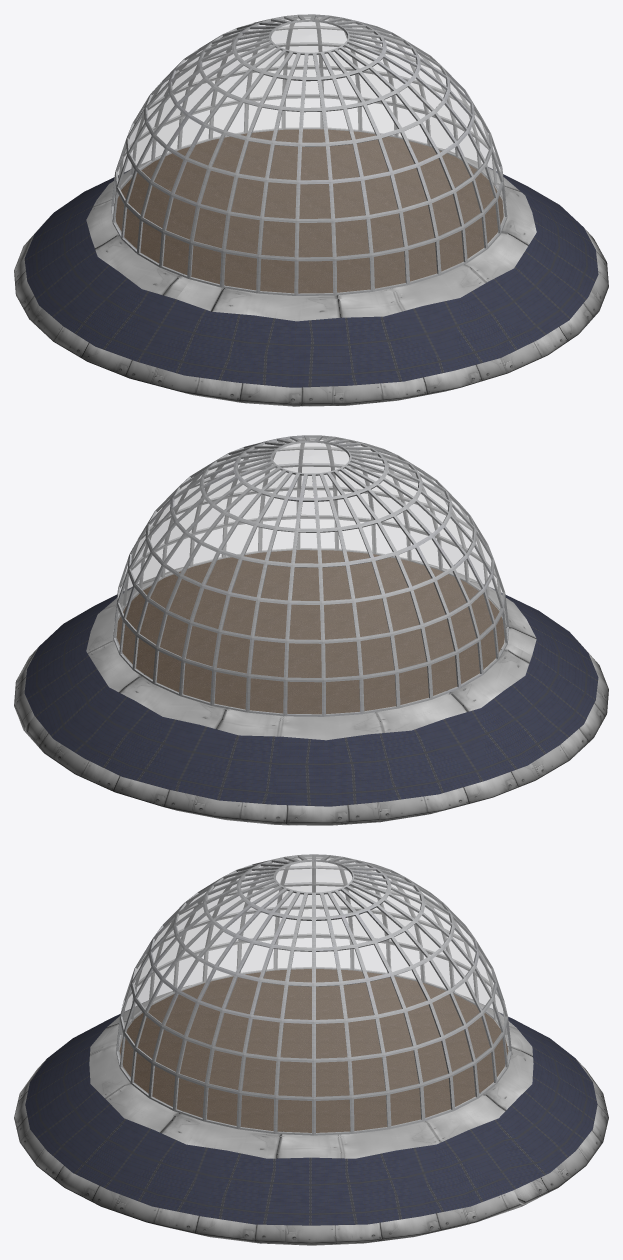
File: portfolio_world.glb
The picture shows the model from 3 angles, top to bottom: view 1: azimuth 30°, elevation 25°; view 2: azimuth 150°, elevation 25°; view 3: azimuth 270°, elevation 25°; orthographic projection.
Visible parts, largest first — view 1: spaceship_base, glass_sphere, ground, frame; view 2: spaceship_base, glass_sphere, ground, frame; view 3: spaceship_base, glass_sphere, ground, frame.
Boxes of the visible parts, box(x1,y1,x2,y2) form: spaceship_base: box(14, 148, 608, 406); glass_sphere: box(114, 17, 504, 293); ground: box(115, 129, 503, 293); frame: box(111, 14, 507, 295); spaceship_base: box(14, 560, 608, 825); glass_sphere: box(116, 438, 506, 714); ground: box(116, 550, 504, 714); frame: box(113, 435, 508, 716); spaceship_base: box(14, 985, 608, 1245); glass_sphere: box(118, 857, 508, 1132); ground: box(119, 969, 508, 1132); frame: box(116, 854, 511, 1135).
Bounding box in the file's own units: 76.18 × 46.09 × 76.18.
Materials: 5 (4 with a texture image).
